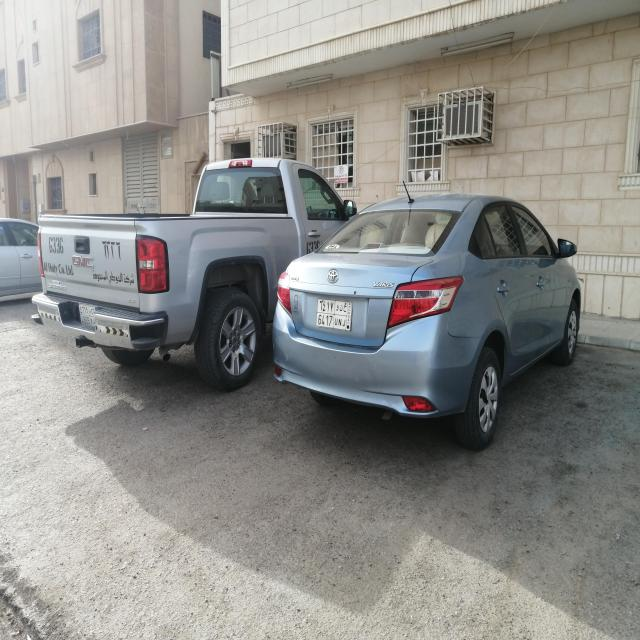license_plate: (316, 297, 353, 333), (78, 304, 100, 326)
